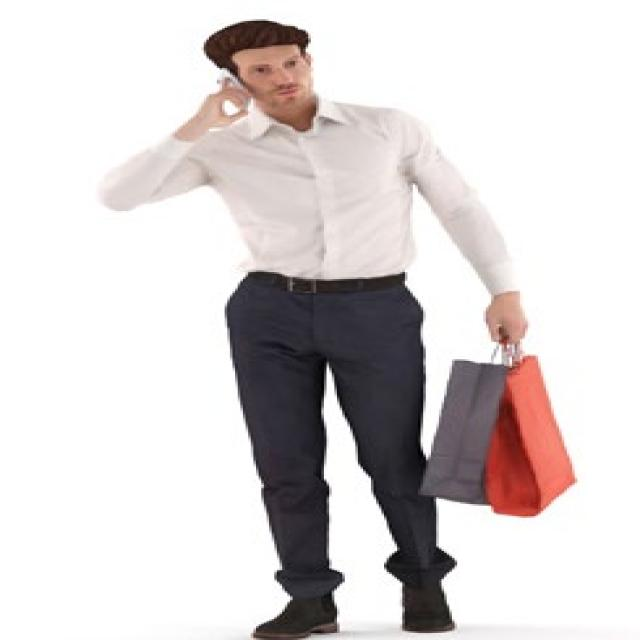standing: (103, 14, 536, 640)
